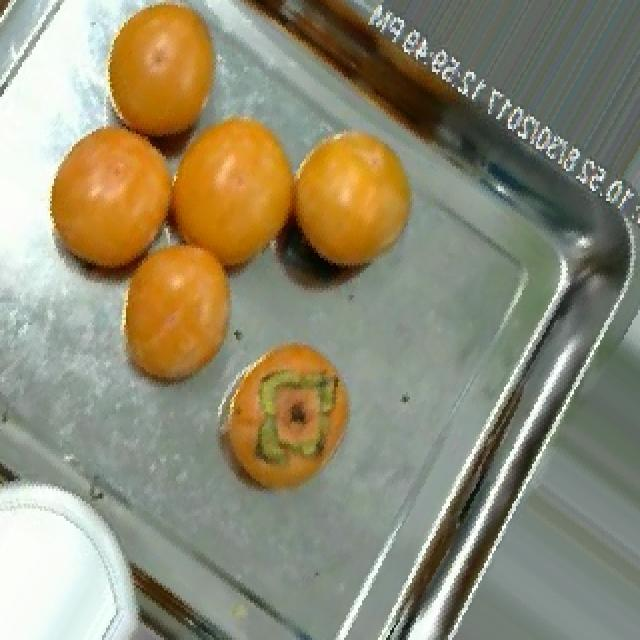Fruit: (268, 101, 438, 308), (28, 99, 196, 305), (208, 322, 370, 518), (102, 218, 260, 410), (84, 0, 240, 176)
